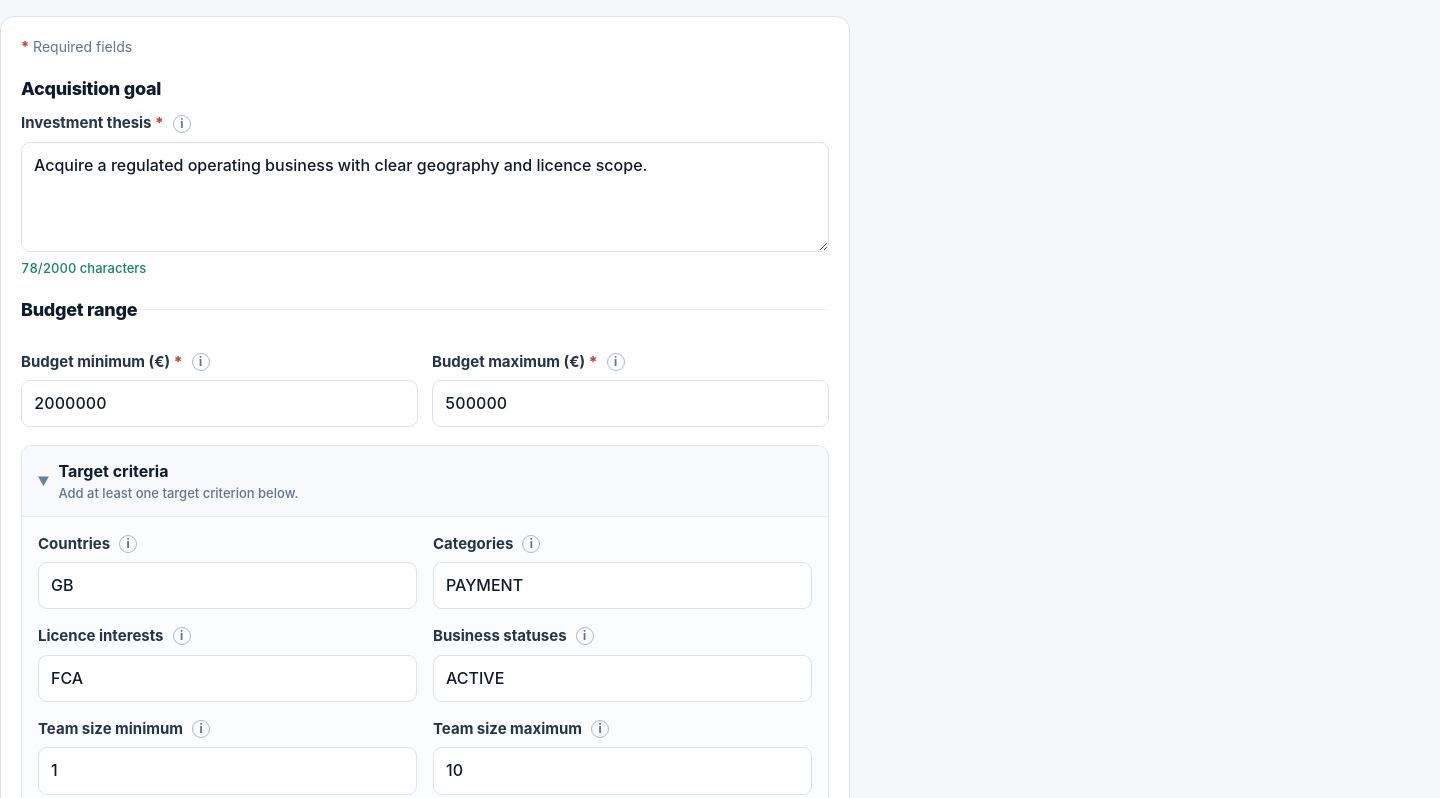
ModerationForm › associates Buyer field errors with the invalid input
Replace the text in the number field labelled "Budget maximum (€) * i" with "2500000" at (630,404), box [432,380,829,427]
(page scrolled)
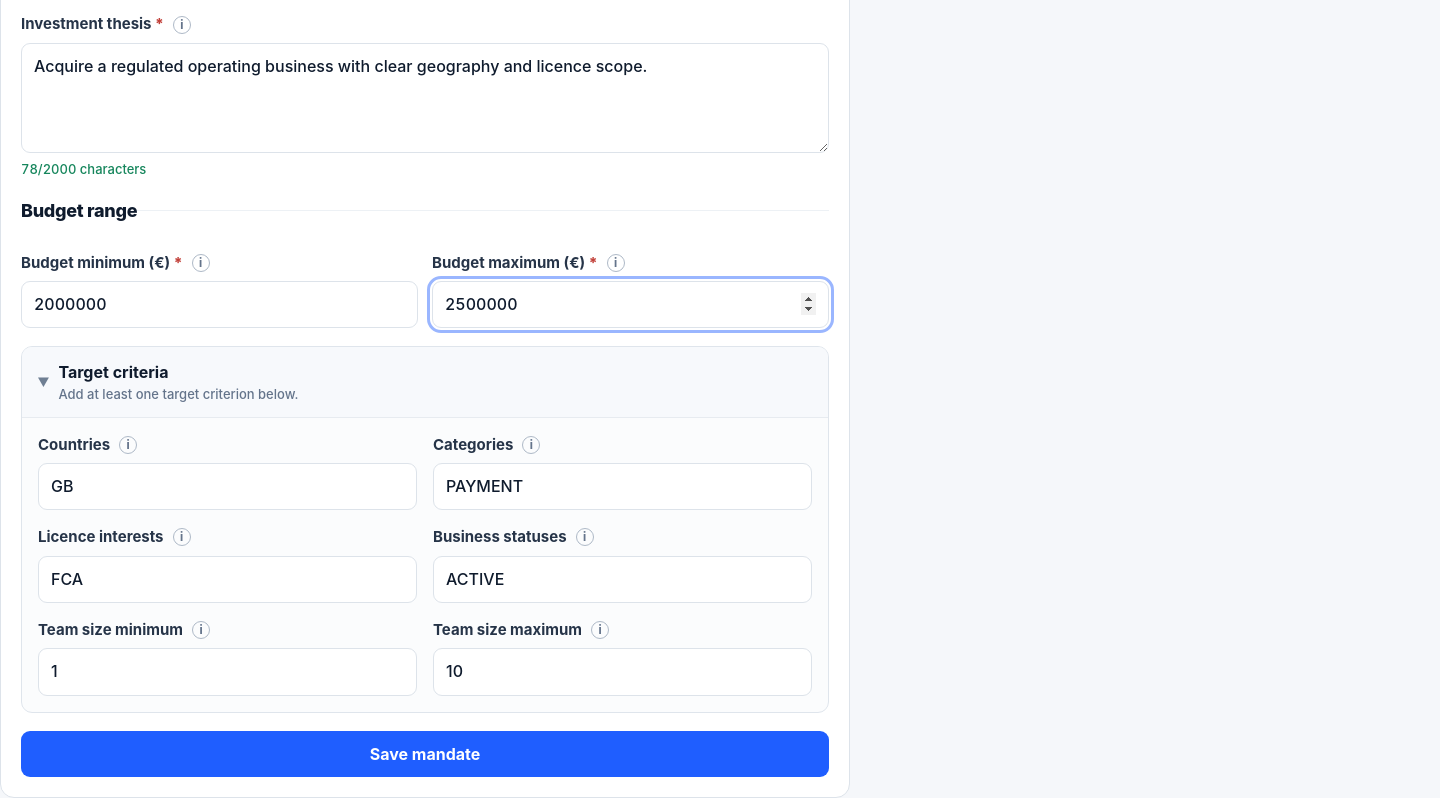
Click the button "Save mandate" at (425,754), box [21,731,829,777]
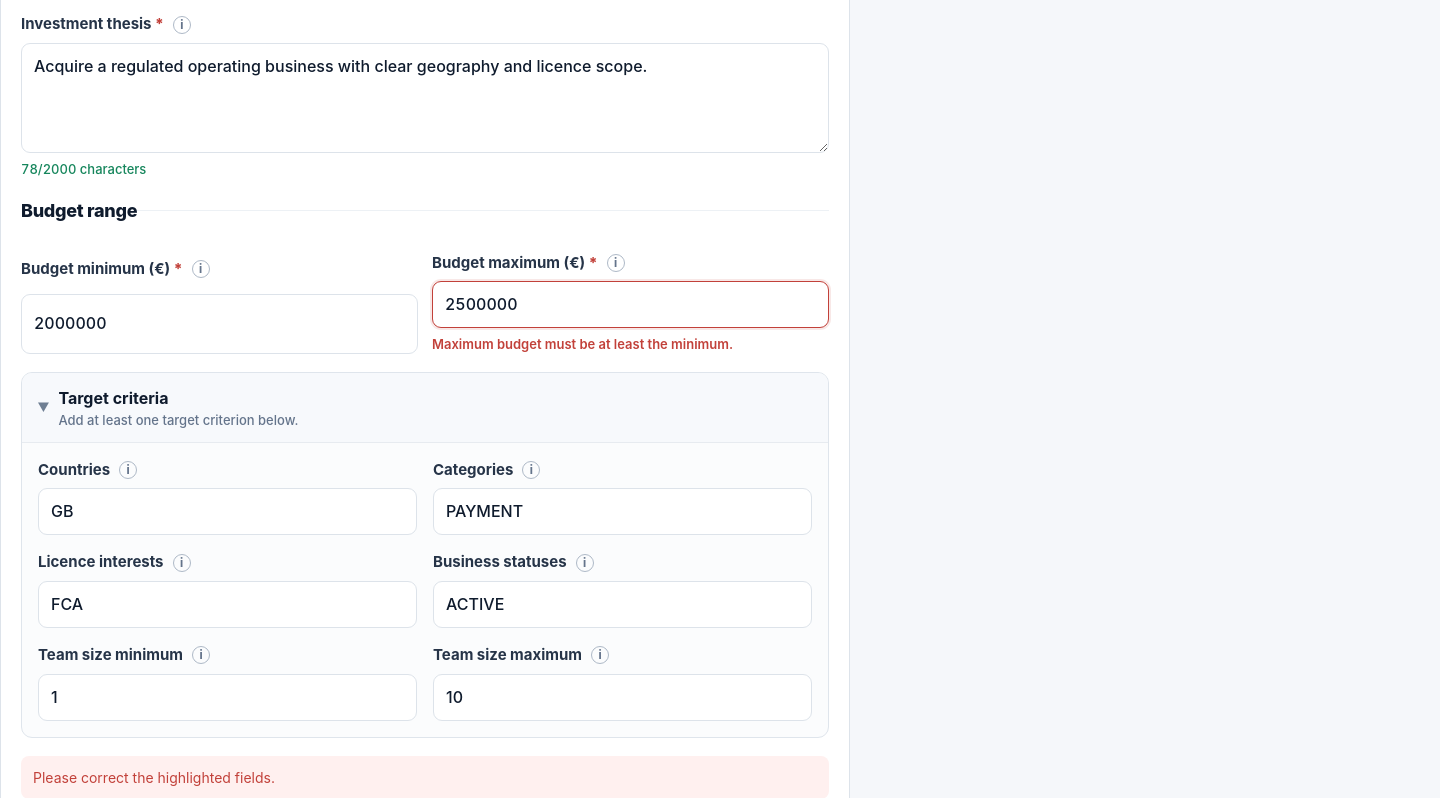
expect the text "Maximum budget must be at least the minimum." is shown: met, box [432,336,733,352]
